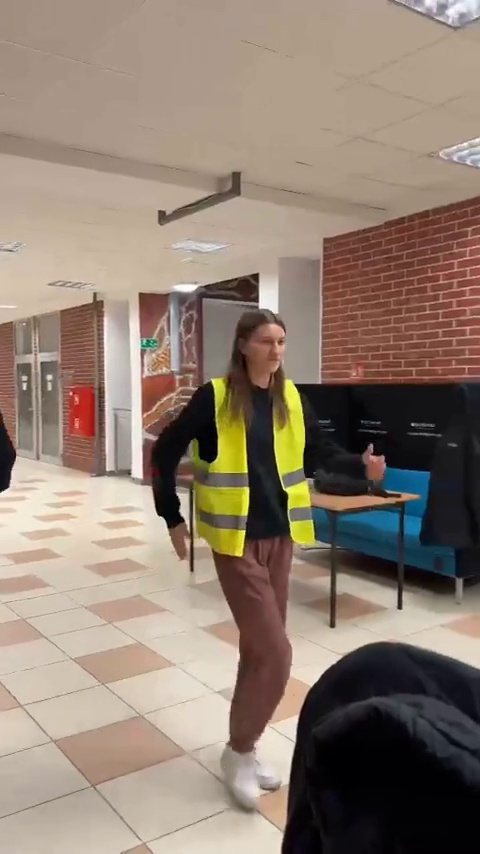vest: (153, 301, 378, 806)
